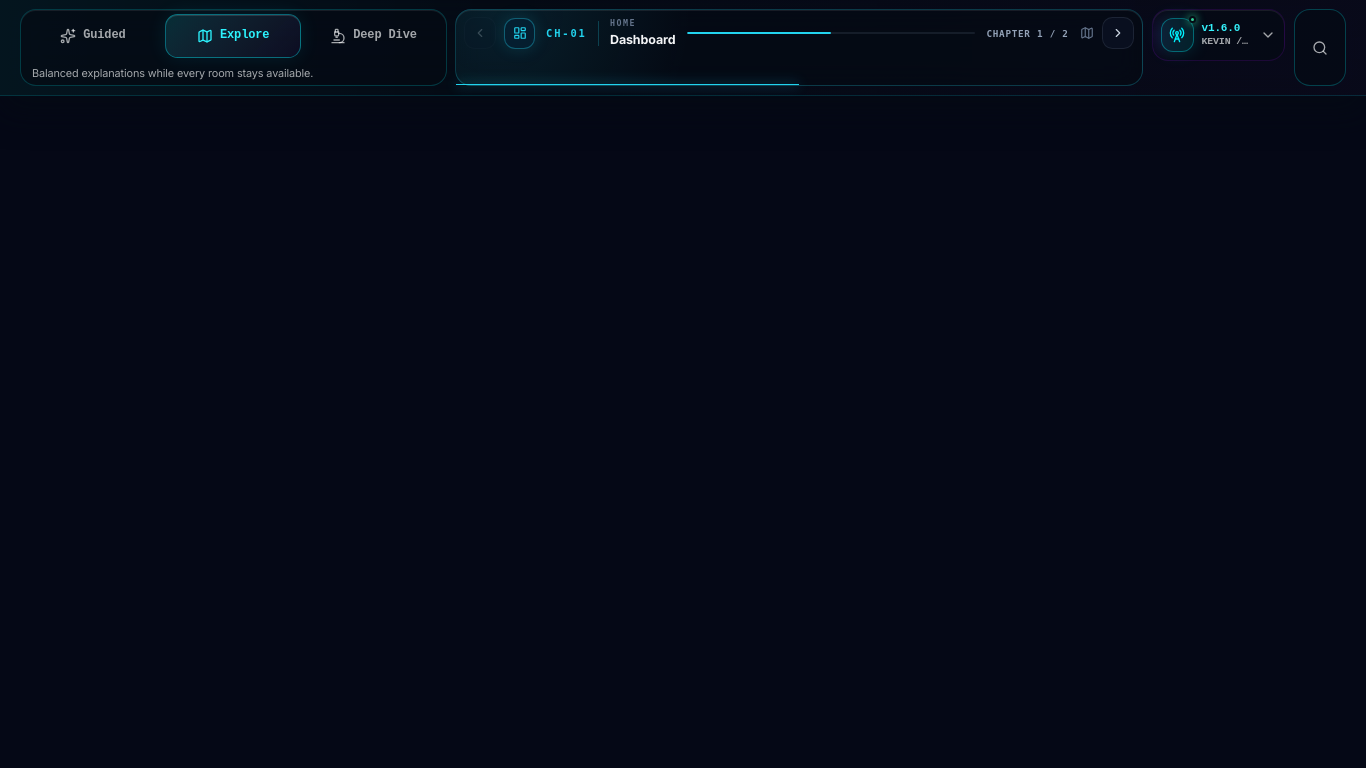
Scenario: ExpeditionConsole › opens with Ctrl+K, filters rooms and completes navigation with Enter
The image size is (1366, 768).
Step 1. Type keys "{Control>}k{/Control}"
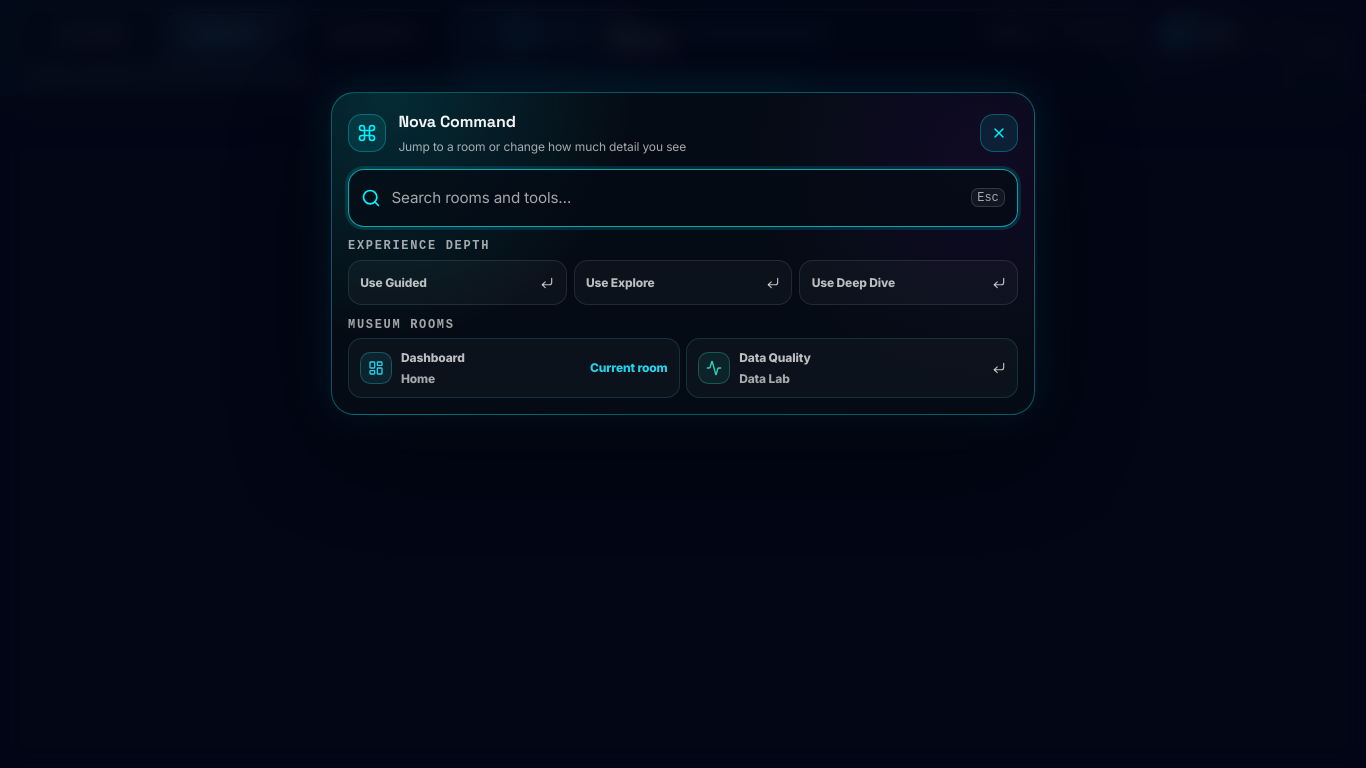
Check: the dialog "Nova Command" is shown, box top-left (331, 92), bottom-right (1035, 415)
Step 2. Type "quality" into the field named "Search rooms and tools" → (676, 198), box top-left (391, 173), bottom-right (960, 223)
Then press Enter
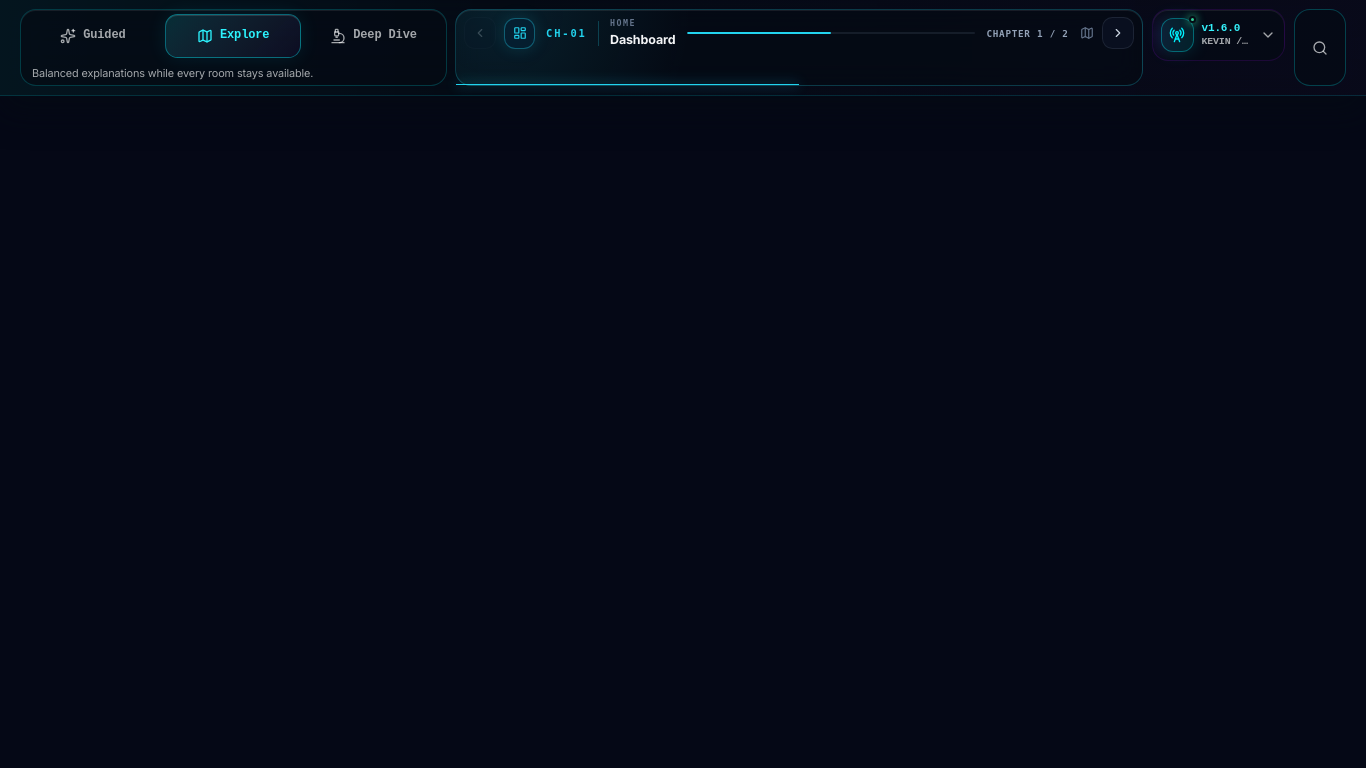
Check: the text "Nova Command" is gone
